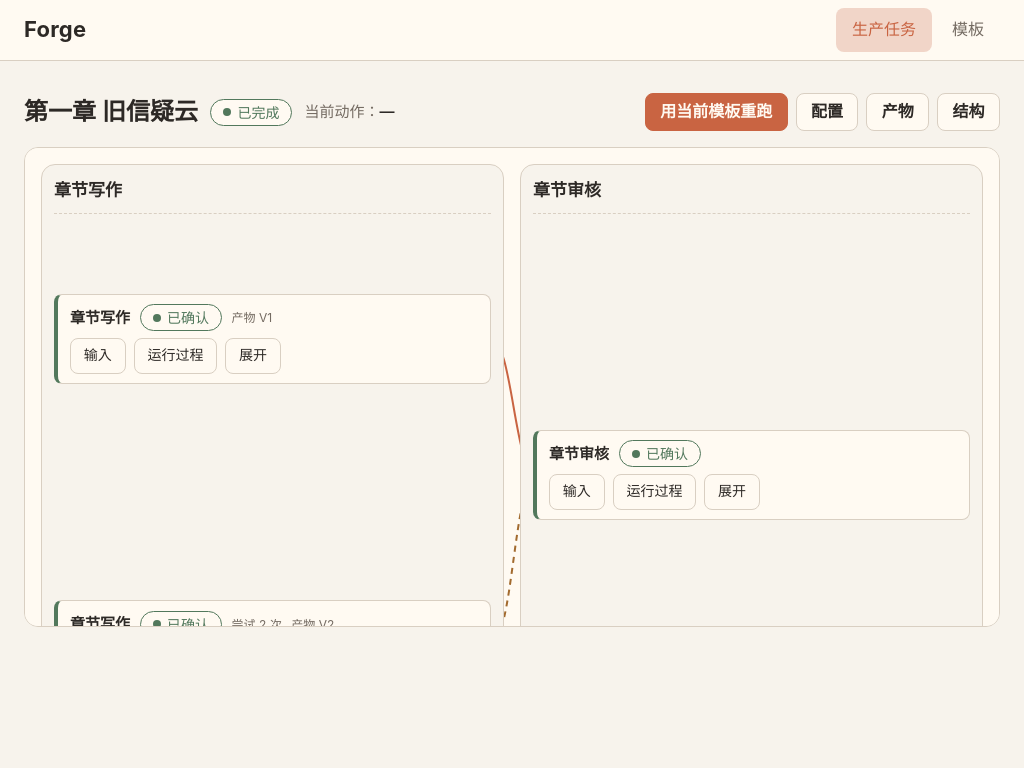
Test: StructuredSlotDrawer (read-only 结构 drawer) › opens a read-only tree for a structured task and loads one slot on selection
Click the button "结构" at (969, 112), box top-left (937, 93), bottom-right (1000, 131)
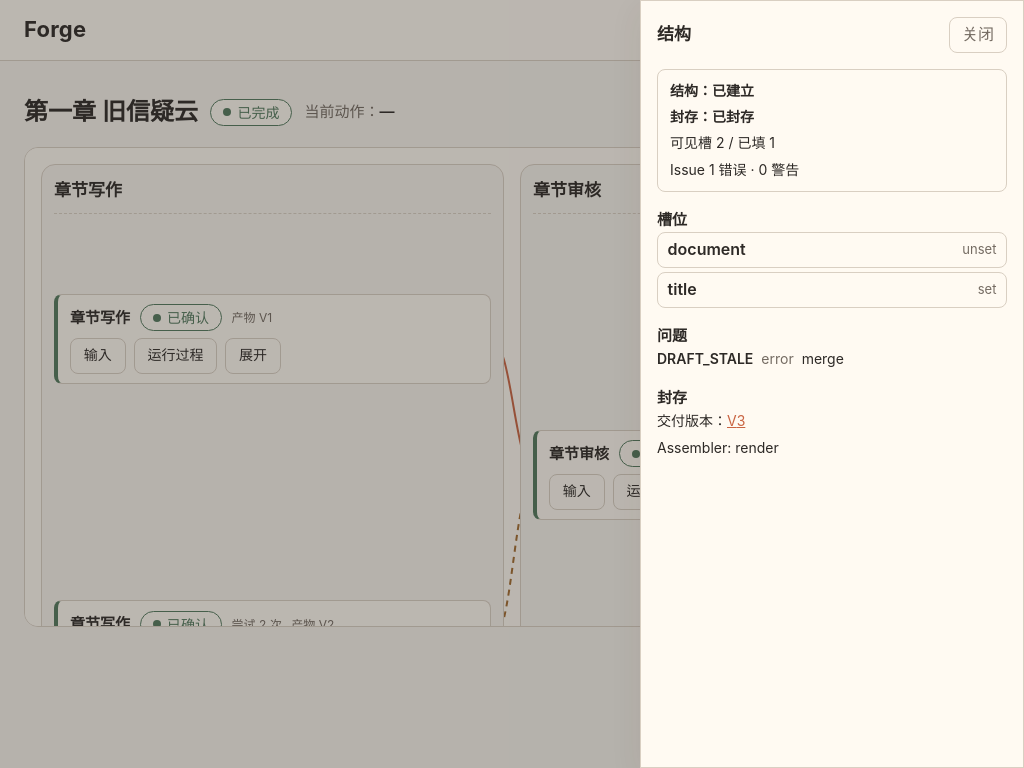
Expected: the element "结构" is shown, top-left (640, 0), bottom-right (1023, 767)
Expected: the text "document" is shown, top-left (668, 237), bottom-right (746, 263)
Expected: the text "title" is shown
Note: Selecting one entry loads exactly that slot.
Click the text "title" at (682, 290), box top-left (668, 277), bottom-right (697, 303)
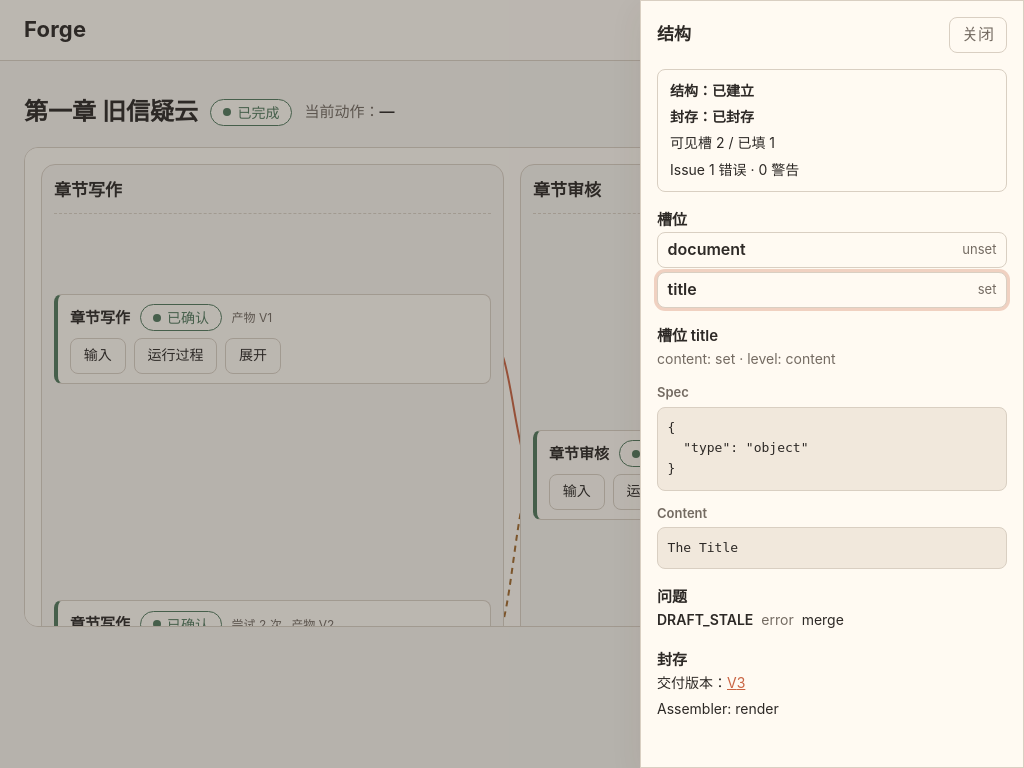
Expected: the text "The Title" is shown, top-left (657, 527), bottom-right (1007, 569)
Expected: the text "{ \"type\": \"object\" }" is shown, top-left (657, 407), bottom-right (1007, 490)
Expected: the text "content: set · level: content" is shown, top-left (657, 350), bottom-right (836, 367)
